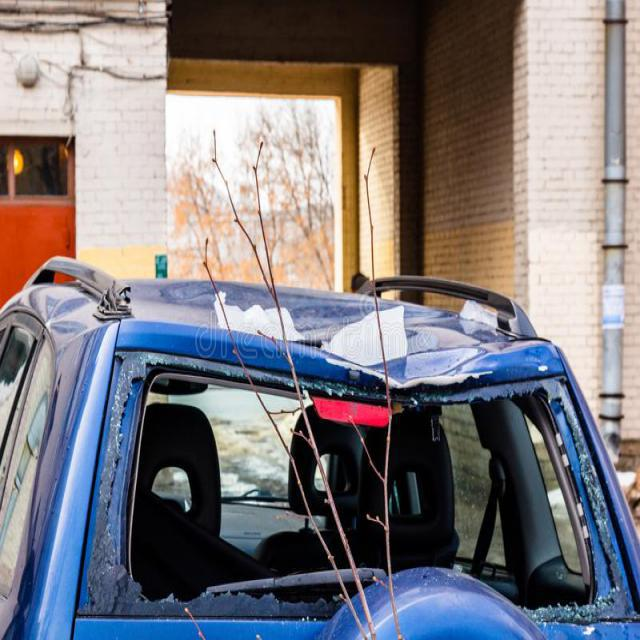Rear-windscreen-Damage: (79, 324, 639, 638)
roof-dent: (42, 272, 573, 397)
